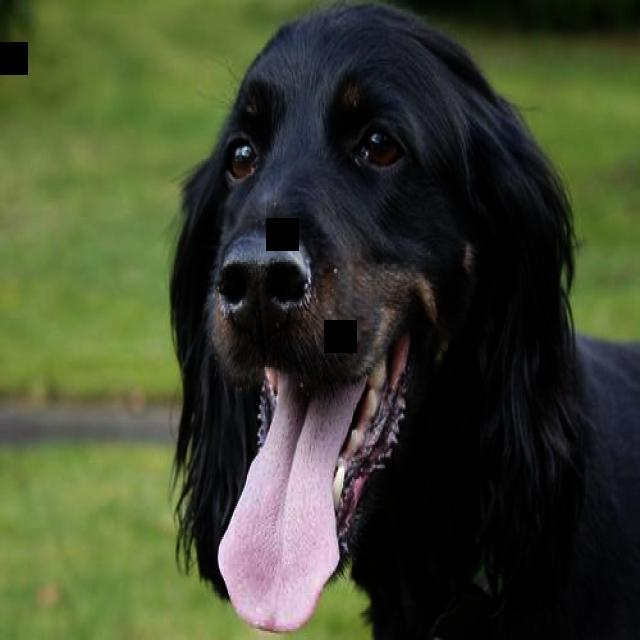adult_dog: (166, 3, 640, 640)
